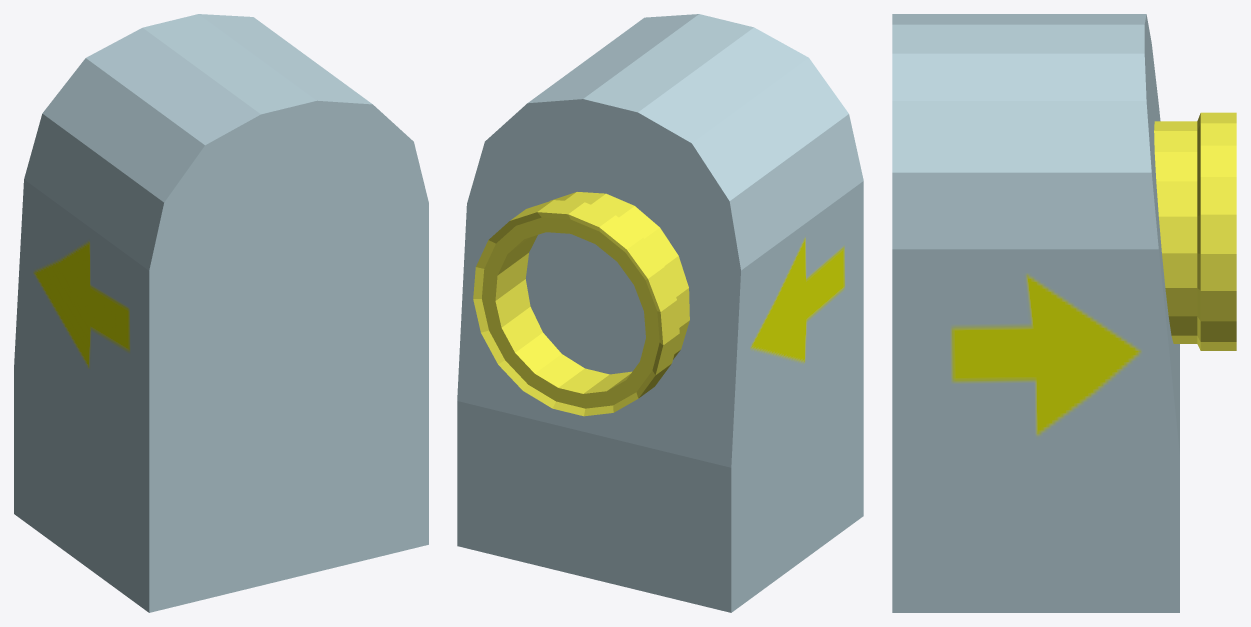
The model's file is Gerador.fbx.
The picture shows the model from 3 angles, left to right: view 1: azimuth 30°, elevation 25°; view 2: azimuth 150°, elevation 25°; view 3: azimuth 270°, elevation 25°; orthographic projection. The views are drawn at different scales.
Visible parts, largest first — view 1: Cylinder; view 2: Cylinder; view 3: Cylinder.
Part boxes in pixels (x1=…): Cylinder: x1=14, y1=14, x2=428, y2=612; Cylinder: x1=457, y1=14, x2=863, y2=612; Cylinder: x1=892, y1=14, x2=1236, y2=612.
Bounding box in the file's own units: 200 × 322 × 200.
1 material, 1 textured.
